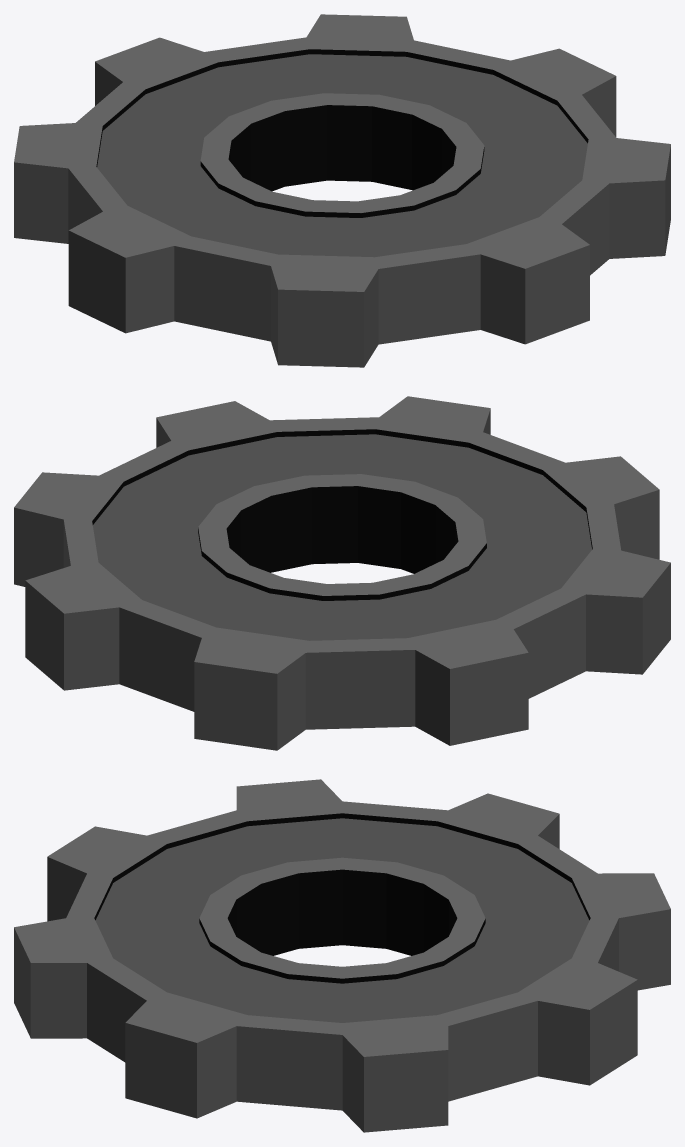
The model's file is SM_Int_Gear.fbx.
The picture shows the model from 3 angles, top to bottom: view 1: azimuth 30°, elevation 25°; view 2: azimuth 150°, elevation 25°; view 3: azimuth 270°, elevation 25°; orthographic projection.
Parts seen in each view (by area): view 1: Circle.001; view 2: Circle.001; view 3: Circle.001.
Boxes of the visible parts, x1,y1,x2,y2 form: Circle.001: [14, 14, 670, 367]; Circle.001: [14, 396, 670, 750]; Circle.001: [14, 779, 670, 1132].
Bounding box in the file's own units: 0.5 × 0.0635 × 0.5.
Materials: 1 (1 with a texture image).
